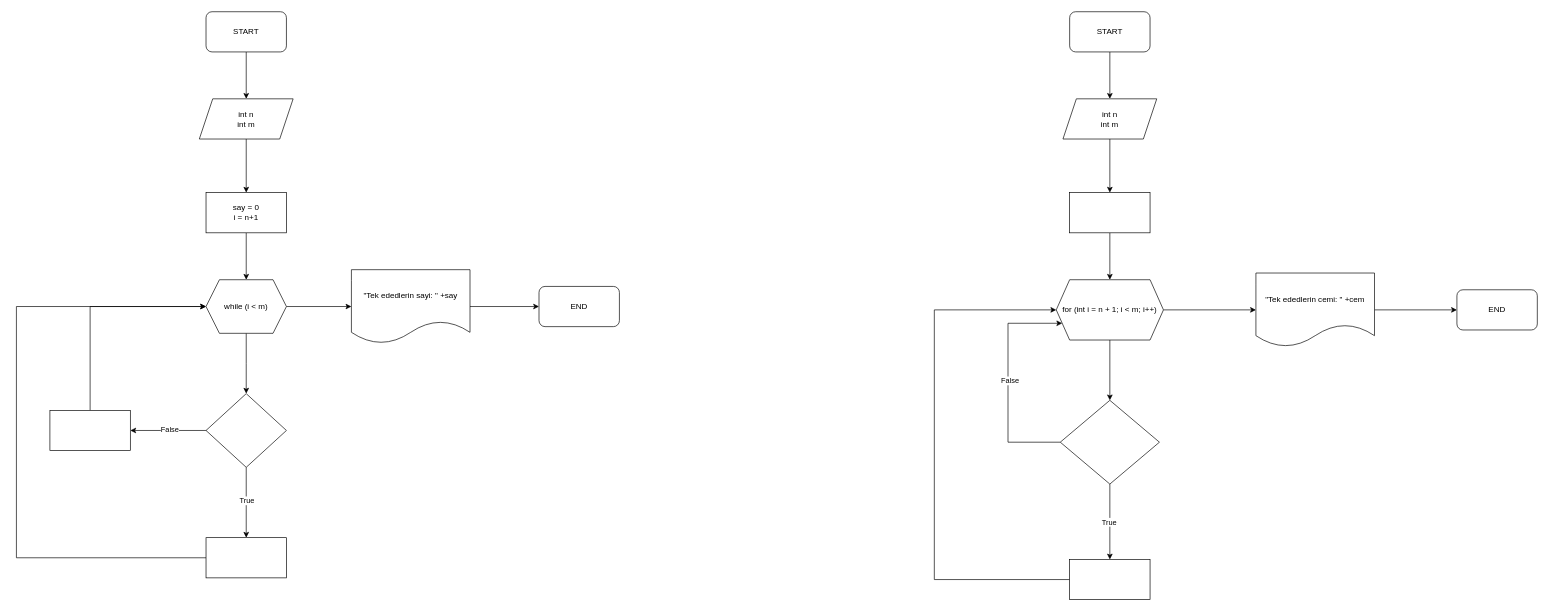
The diagram is 1549 pixels wide and 612 high, and some of its shapes have lost their labels. Each missing label, with the centre of its shape:
"cem += i" goes at point 1109,579.
"cem = 0" goes at point 1109,212.
"i++" goes at point 89,430.
"if (i % 2 != 0)" goes at point 245,430.
"if( i %2 != 0)" goes at point 1109,442.
"say++ i++" goes at point 245,557.
